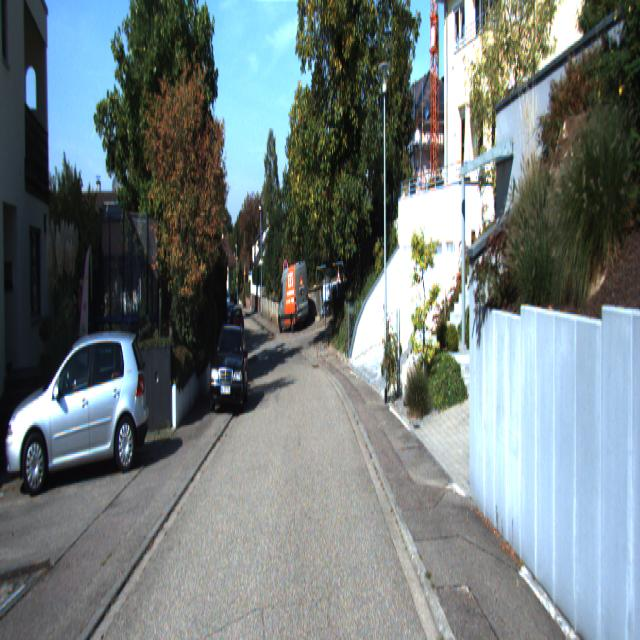Car: (6, 326, 153, 496), (209, 322, 250, 414)
Van: (277, 262, 310, 334)
